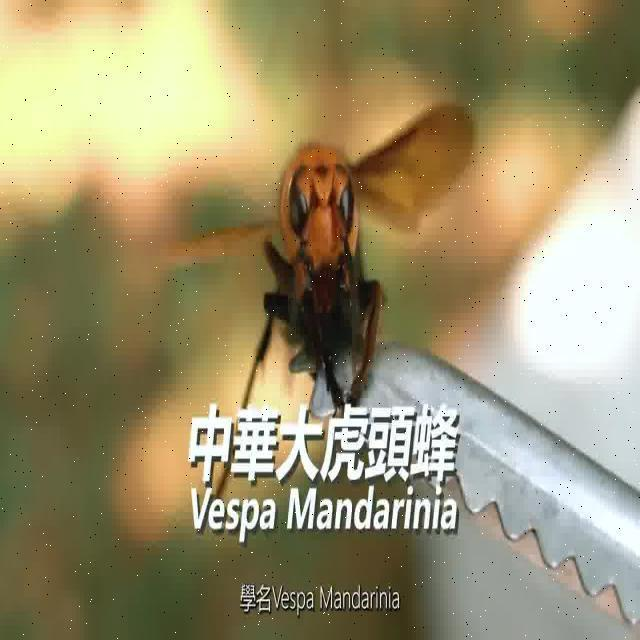Wasp: (232, 85, 472, 400)
